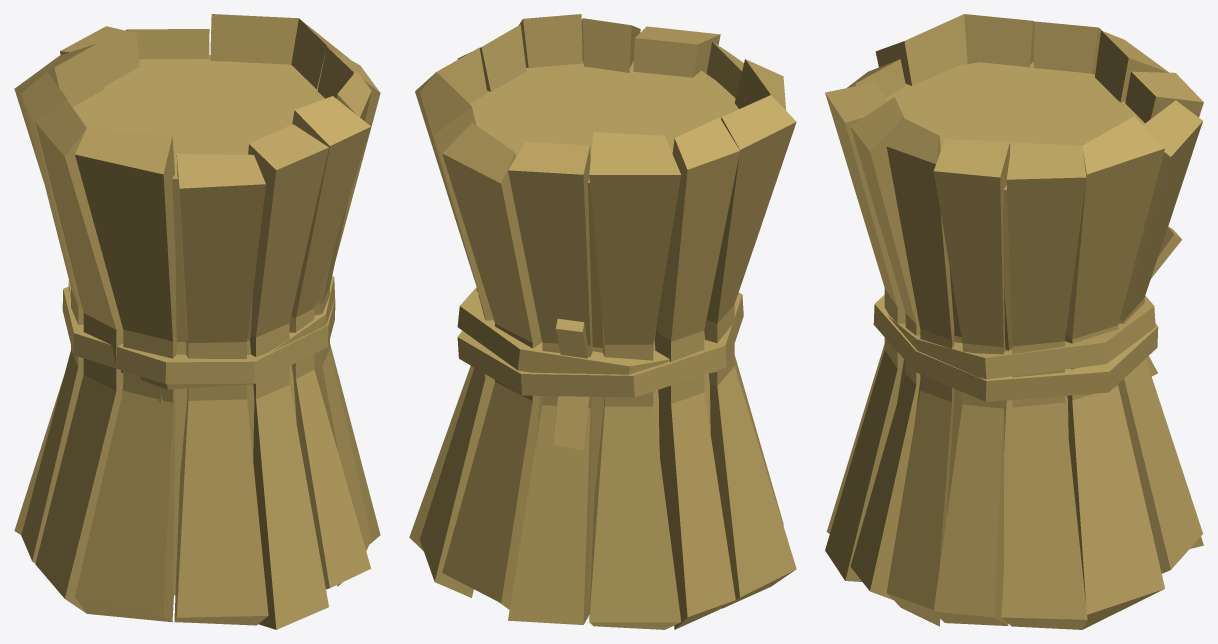
The model's file is Hay.glb.
3 views of the same model, side by side, from view 1: azimuth 30°, elevation 25°; view 2: azimuth 150°, elevation 25°; view 3: azimuth 270°, elevation 25° (orthographic).
Visible parts, largest first — view 1: Hay; view 2: Hay; view 3: Hay.
Boxes of the visible parts, <box> form: Hay: <box>14,14,380,629</box>; Hay: <box>409,14,796,629</box>; Hay: <box>825,14,1203,629</box>.
Bounding box in the file's own units: 0.121 × 0.1785 × 0.1249.
